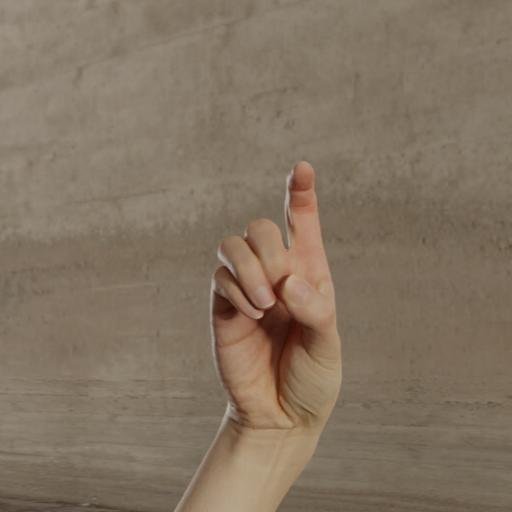X: (197, 152, 347, 439)
